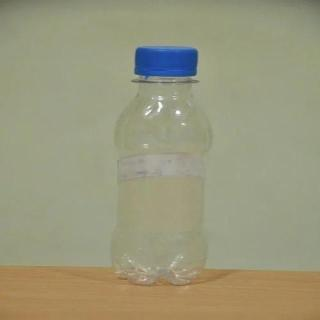Plastic-bottle: (111, 44, 211, 292)
